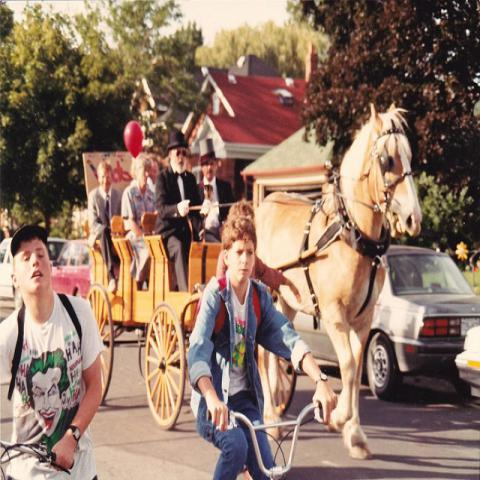car: (295, 247, 479, 385), (52, 240, 96, 298), (0, 238, 26, 320), (455, 320, 479, 402), (47, 236, 67, 260)
